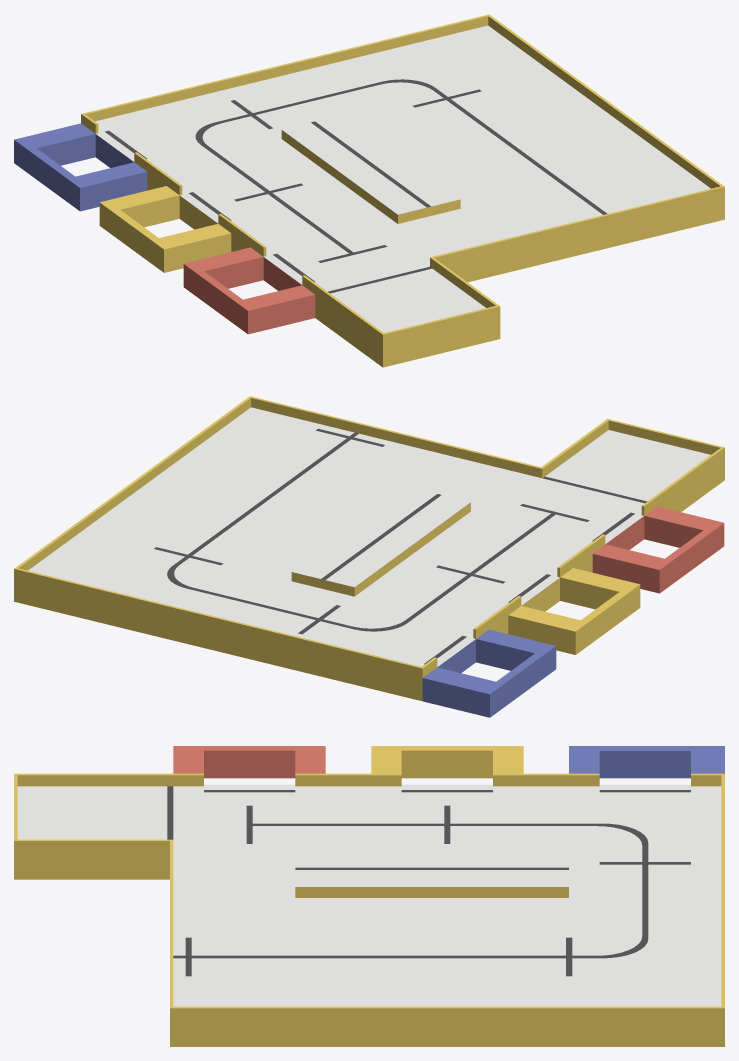
The model's file is feild.dae.
The picture shows the model from 3 angles, top to bottom: view 1: azimuth 30°, elevation 25°; view 2: azimuth 150°, elevation 25°; view 3: azimuth 270°, elevation 25°; orthographic projection. The views are drawn at different scales.
Parts seen in each view (by area): view 1: Body1; view 2: Body1; view 3: Body1.
Part boxes in pixels (box(x1,y1,x2,y2)): Body1: box(14, 14, 724, 367); Body1: box(14, 396, 724, 717); Body1: box(14, 746, 724, 1046).
Bounding box in the file's own units: 2.12 × 2.34 × 0.14.
